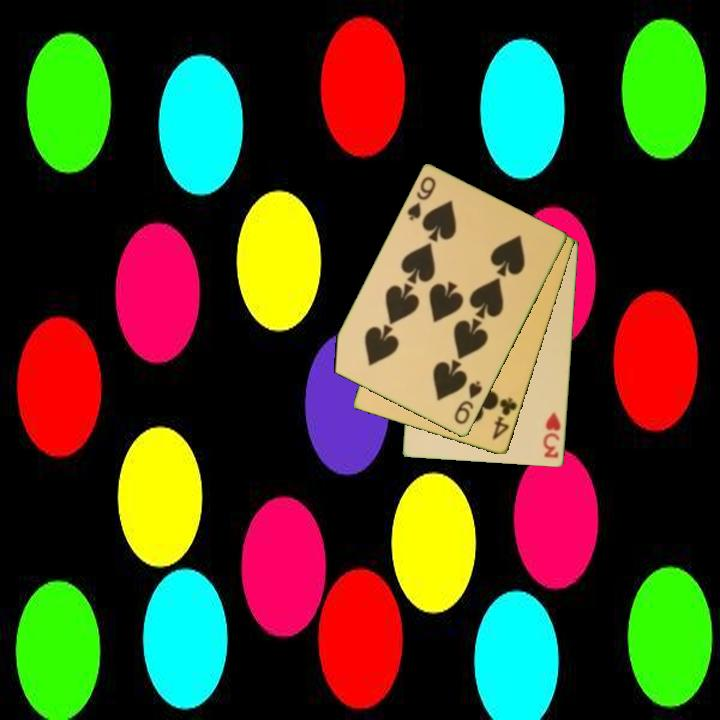3h: (540, 409, 564, 461)
4c: (489, 394, 520, 443)
9s: (403, 173, 439, 224), (451, 377, 486, 428)
